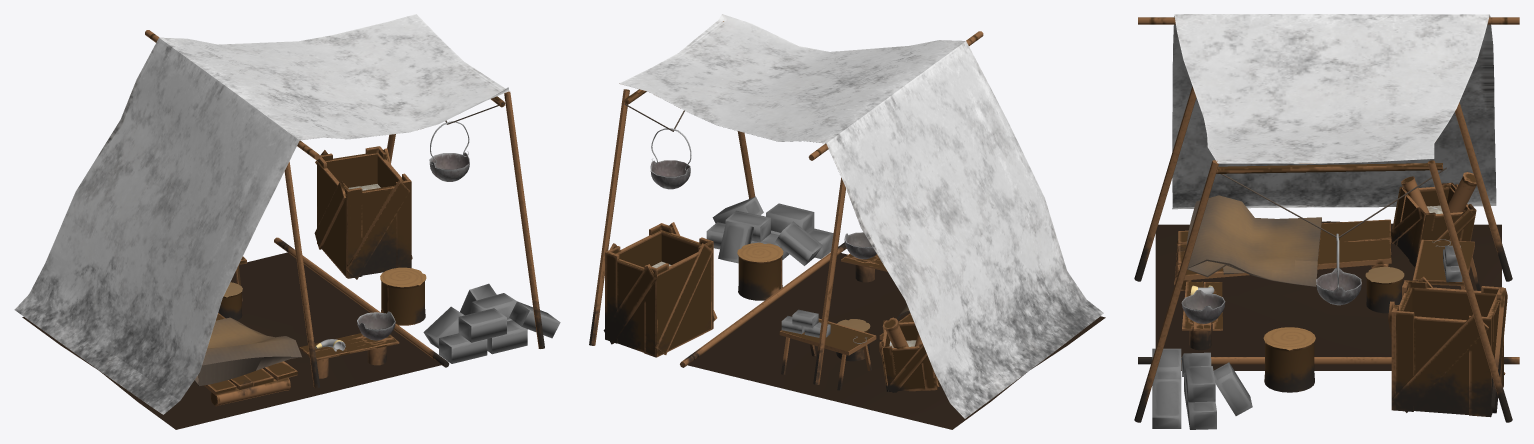
The model's file is stall 3.fbx.
The picture shows the model from 3 angles, left to right: view 1: azimuth 30°, elevation 25°; view 2: azimuth 150°, elevation 25°; view 3: azimuth 270°, elevation 25°; orthographic projection. The views are drawn at different scales.
Visible parts, largest first — view 1: polySurface62, polySurface61; view 2: polySurface62, polySurface60; view 3: polySurface62, polySurface61, polySurface60.
Boxes of the visible parts, left/top/right/bottom form: polySurface62: left=14, top=14, right=560, bottom=429; polySurface61: left=284, top=161, right=320, bottom=388; polySurface62: left=589, top=14, right=1105, bottom=429; polySurface60: left=813, top=178, right=845, bottom=384; polySurface62: left=1134, top=14, right=1519, bottom=429; polySurface61: left=1134, top=86, right=1196, bottom=281; polySurface60: left=1455, top=102, right=1512, bottom=281.
Size of what is drawn, in the model's own units: 6.58 by 4.05 by 4.97.
1 material, 1 textured.
